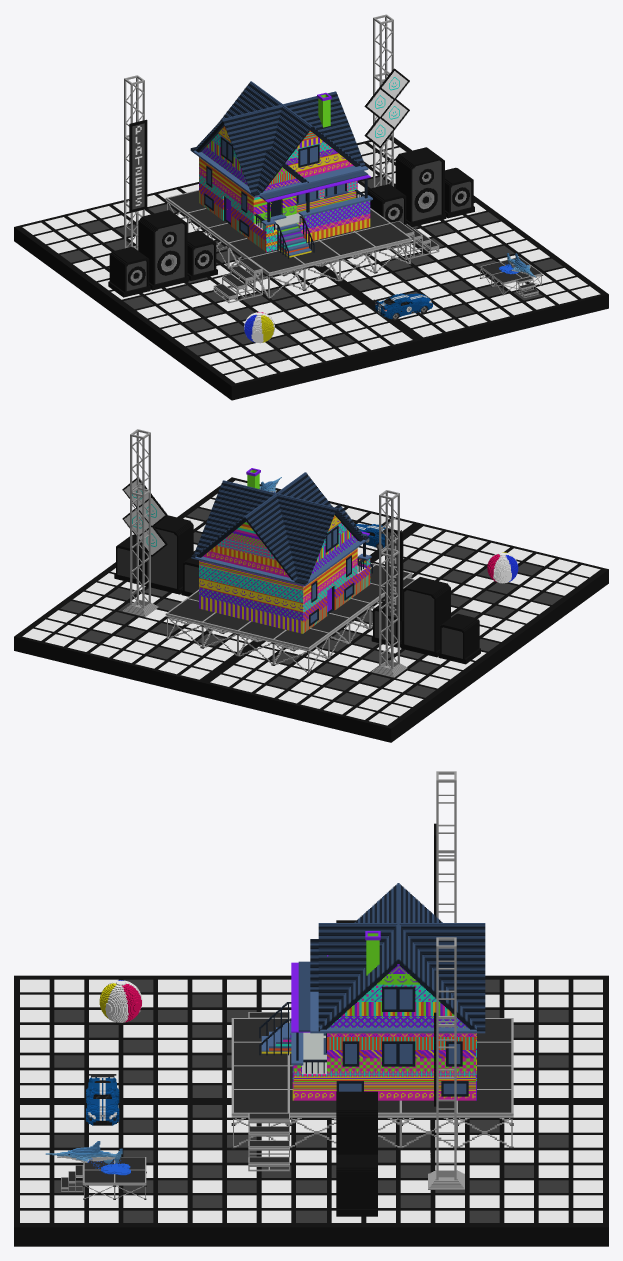
3 renders of one model, top to bottom at view 1: azimuth 30°, elevation 25°; view 2: azimuth 150°, elevation 25°; view 3: azimuth 270°, elevation 25°, orthographic. The views are drawn at different scales.
Parts seen in each view (by area): view 1: TERRAIN_DISCO_FLOOR, HOUSE_PSICHODELIC, VEHICLES_RACING_CAR, OBJRANDOM_PELOTA_DE_PLAYA; view 2: TERRAIN_DISCO_FLOOR, HOUSE_PSICHODELIC, OBJRANDOM_PELOTA_DE_PLAYA, VEHICLES_RACING_CAR; view 3: TERRAIN_DISCO_FLOOR, HOUSE_PSICHODELIC, VEHICLES_RACING_CAR, OBJRANDOM_PELOTA_DE_PLAYA, ANIMAL_PEZ_ESPADA.
Boxes of the visible parts, left/top/right/bottom form: TERRAIN_DISCO_FLOOR: left=14, top=14, right=608, bottom=400; HOUSE_PSICHODELIC: left=190, top=81, right=372, bottom=258; VEHICLES_RACING_CAR: left=374, top=293, right=432, bottom=320; OBJRANDOM_PELOTA_DE_PLAYA: left=244, top=312, right=274, bottom=343; TERRAIN_DISCO_FLOOR: left=14, top=429, right=608, bottom=742; HOUSE_PSICHODELIC: left=191, top=468, right=372, bottom=633; OBJRANDOM_PELOTA_DE_PLAYA: left=487, top=552, right=518, bottom=583; VEHICLES_RACING_CAR: left=355, top=524, right=401, bottom=550; TERRAIN_DISCO_FLOOR: left=14, top=771, right=608, bottom=1246; HOUSE_PSICHODELIC: left=259, top=883, right=485, bottom=1100; VEHICLES_RACING_CAR: left=86, top=1074, right=119, bottom=1125; OBJRANDOM_PELOTA_DE_PLAYA: left=99, top=980, right=142, bottom=1022; ANIMAL_PEZ_ESPADA: left=45, top=1141, right=130, bottom=1175.
Size of the model in its own units: 4000 by 1960 by 4000.
30 materials, 22 textured.
